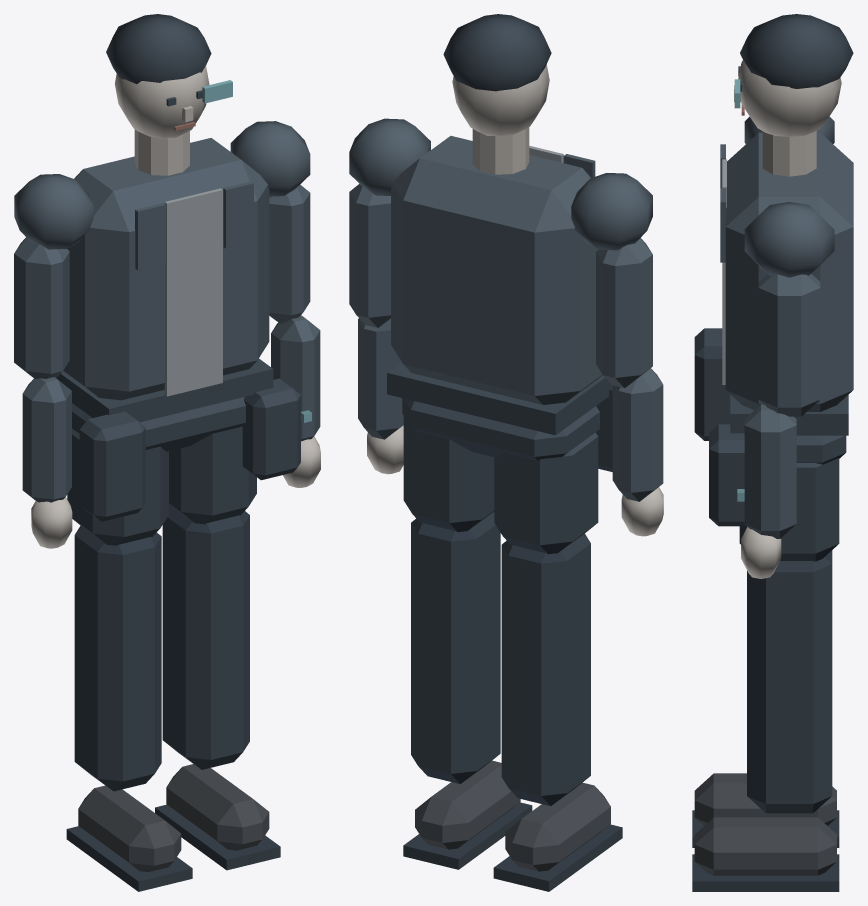
File: personaje_operative.glb
3 views of the same model, side by side, from view 1: azimuth 30°, elevation 25°; view 2: azimuth 150°, elevation 25°; view 3: azimuth 270°, elevation 25° (orthographic). The views are drawn at different scales.
Bounding box in the file's own units: 0.72 × 1.95 × 0.34.
